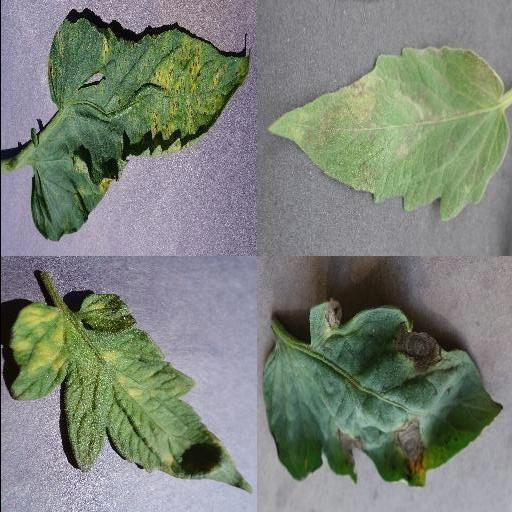Early Blight: (257, 297, 503, 489)
Late Blight: (266, 45, 508, 223)
Leaf Mold: (7, 296, 251, 494)
Septoria: (30, 16, 252, 240)
